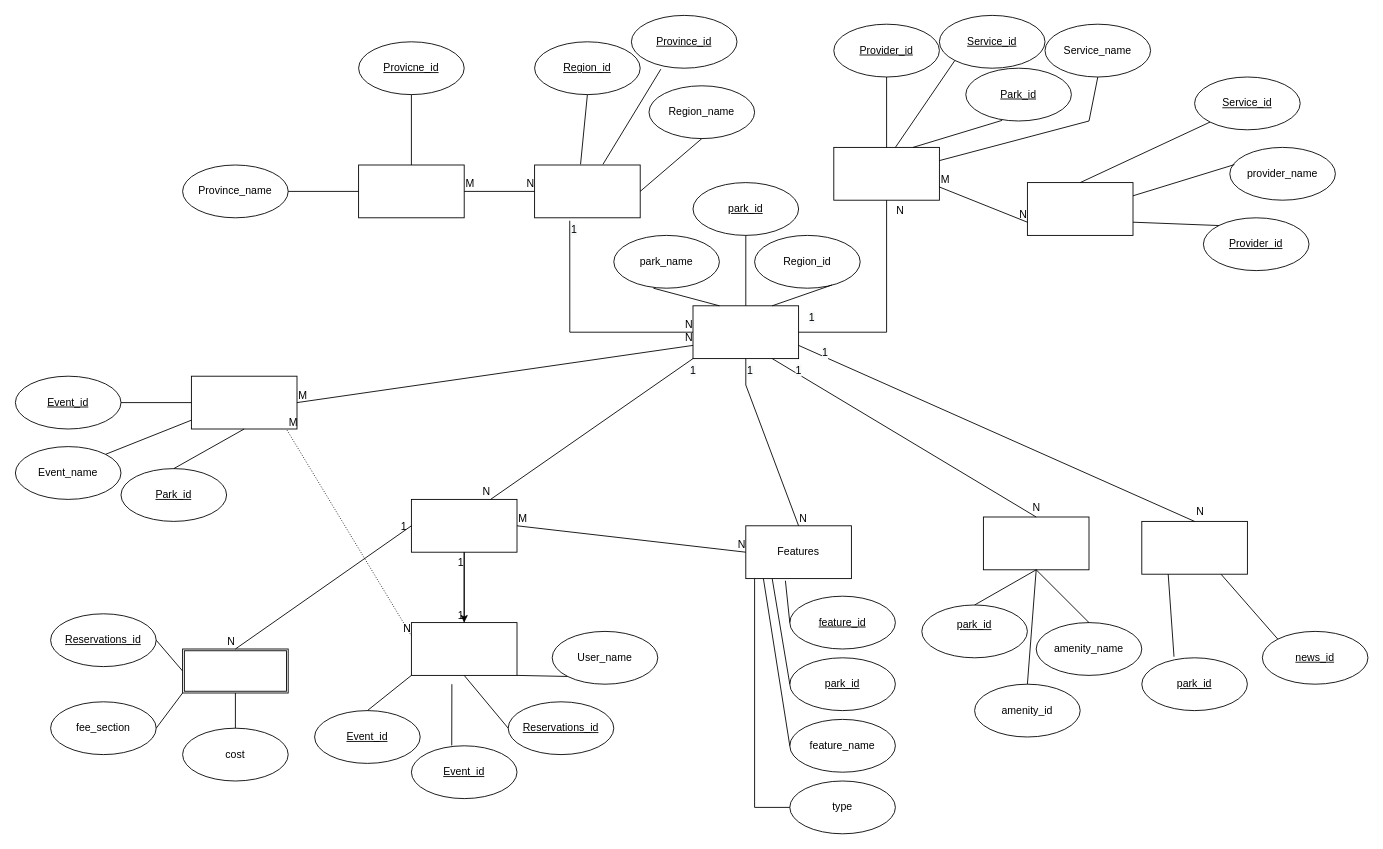
Image size: 1383x849. Some labels were removed from this diagram. Here are the shapes that lost their labels. From the top down, the centre of each, then its label:
At point (411, 191): "Province".
At point (587, 191): "Region".
At point (886, 173): "Additional Services".
At point (1080, 208): "Providers".
At point (745, 332): "Park".
At point (244, 402): "Events".
At point (464, 525): "Reservations".
At point (1036, 543): "Amenities".
At point (1194, 547): "News".
At point (464, 648): "Users".
At point (235, 670): "Fees".
